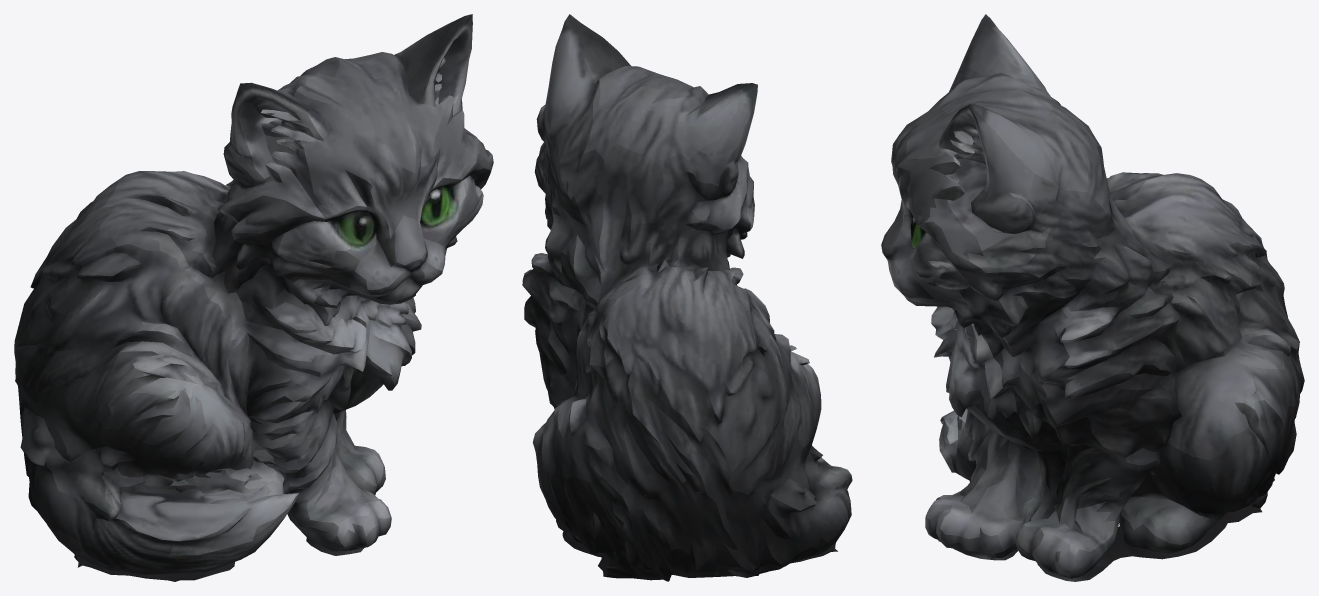
The model's file is coco-sit.glb.
3 views of the same model, side by side, from view 1: azimuth 30°, elevation 25°; view 2: azimuth 150°, elevation 25°; view 3: azimuth 270°, elevation 25° (orthographic). The views are drawn at different scales.
Visible parts, largest first — view 1: geometry_0; view 2: geometry_0; view 3: geometry_0.
Part boxes in pixels (x1,y1,x2,y2): geometry_0: (14, 14, 493, 581); geometry_0: (522, 14, 852, 581); geometry_0: (881, 14, 1304, 581).
Size of the model in its own units: 0.8076 by 1 by 0.7562.
1 material, 1 textured.
